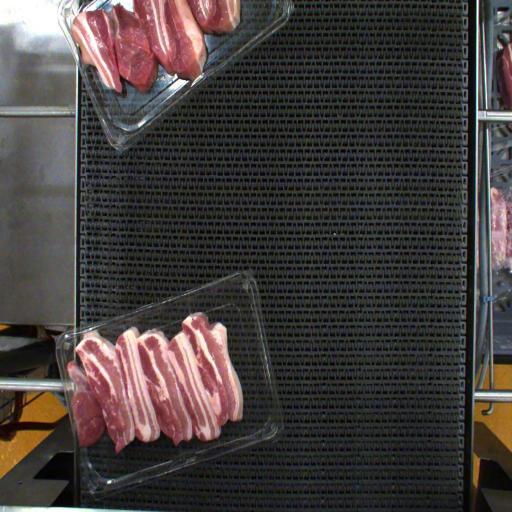packaging-error: (59, 391, 89, 455), (74, 318, 108, 350)
